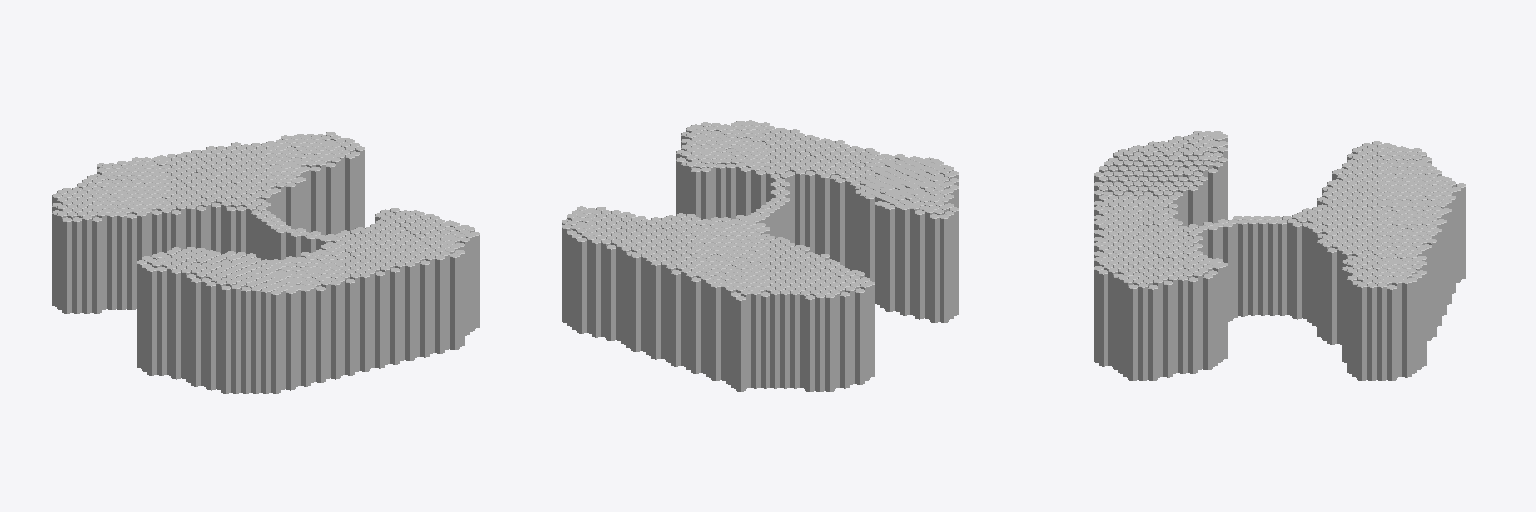
The model's file is Level2_TikTok_BaseMesh.obj.
The picture shows the model from 3 angles: view 1: azimuth 30°, elevation 25°; view 2: azimuth 150°, elevation 25°; view 3: azimuth 270°, elevation 25°; orthographic projection.
Visible parts, largest first — view 1: Plane; view 2: Plane; view 3: Plane.
Boxes of the visible parts, <box> form: Plane: <box>52,132,479,393</box>; Plane: <box>562,120,958,391</box>; Plane: <box>1094,131,1465,380</box>.
Bounding box in the file's own units: 12.1 × 4.22 × 12.99.